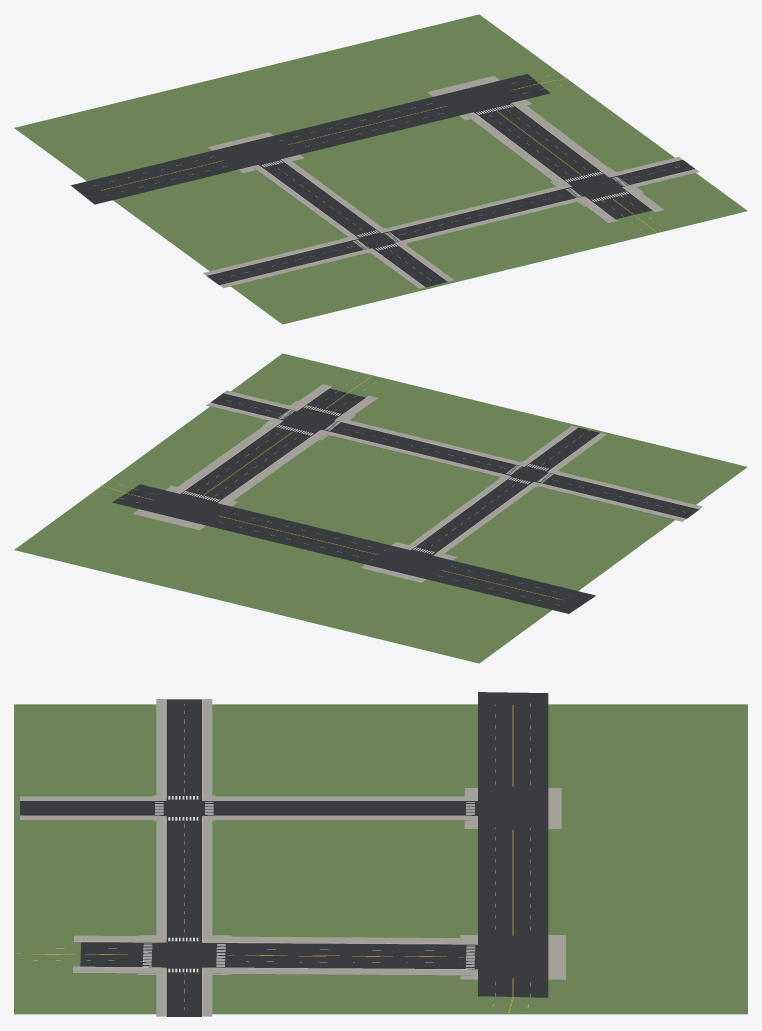
File: Ground_6_7.fbx
3 renders of one model, top to bottom at view 1: azimuth 30°, elevation 25°; view 2: azimuth 150°, elevation 25°; view 3: azimuth 270°, elevation 25°, orthographic. The views are drawn at different scales.
Parts seen in each view (by area): view 1: Ground_6_7; view 2: Ground_6_7; view 3: Ground_6_7.
Boxes of the visible parts, left/top/right/bottom form: Ground_6_7: left=14, top=14, right=747, bottom=324; Ground_6_7: left=14, top=353, right=747, bottom=663; Ground_6_7: left=14, top=692, right=747, bottom=1016.
Size of the model in its own units: 262 by 0.14 by 250.
